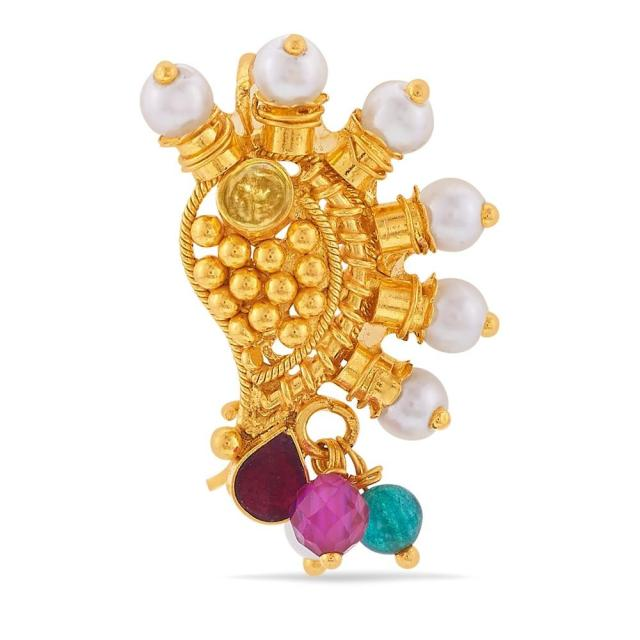missing gem: (220, 162, 290, 229)
